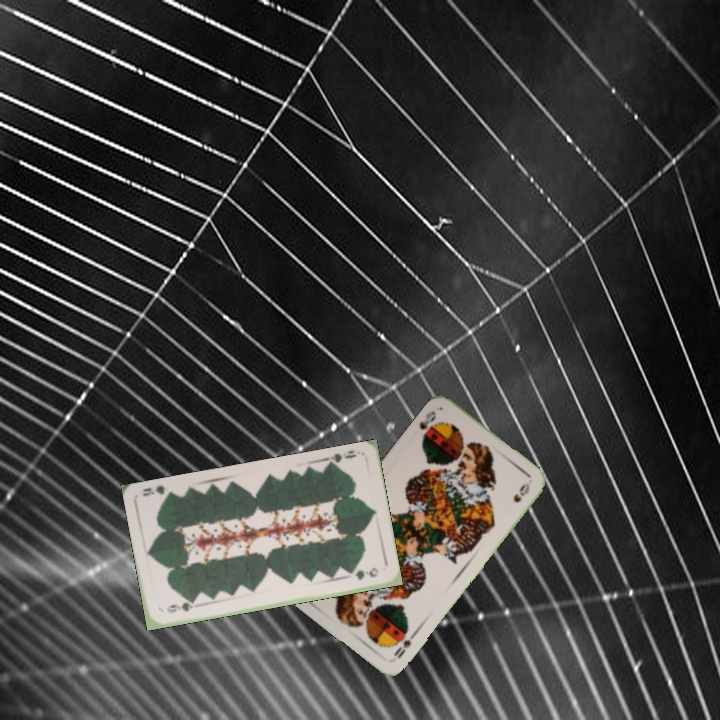G9: (322, 446, 359, 469), (163, 597, 198, 615)
SO: (390, 626, 419, 662), (415, 407, 439, 444)
